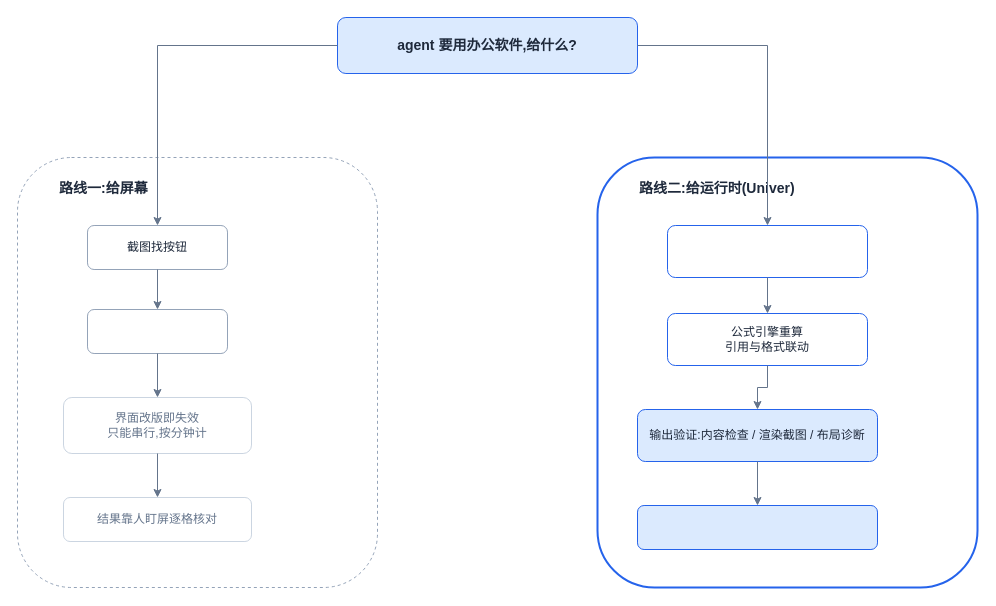
This 996x606 diagram has some shape labels left out. The box of each missing label's shape, as (x1, y1, x2, y2) in pixels:
worktree 草稿,人审后合并: (636, 504, 878, 550)
模拟点击: (86, 308, 228, 354)
结构化 API 读写 (命令体系,可撤销): (666, 224, 868, 278)
